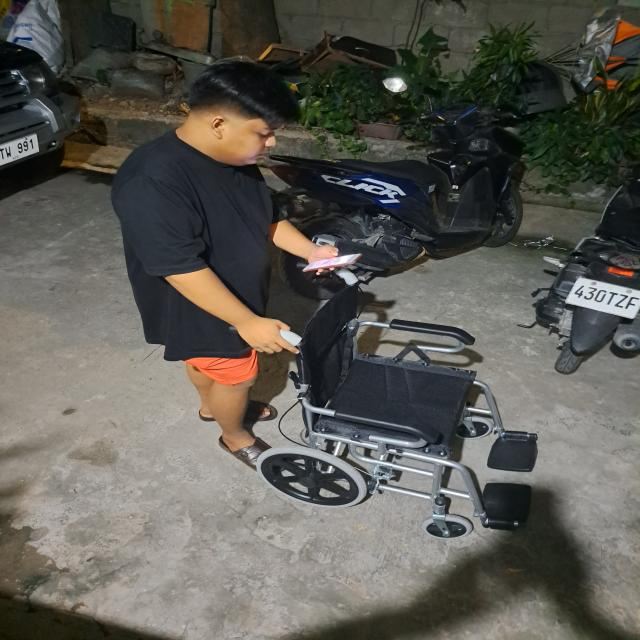wheelchairs: (223, 259, 551, 551)
